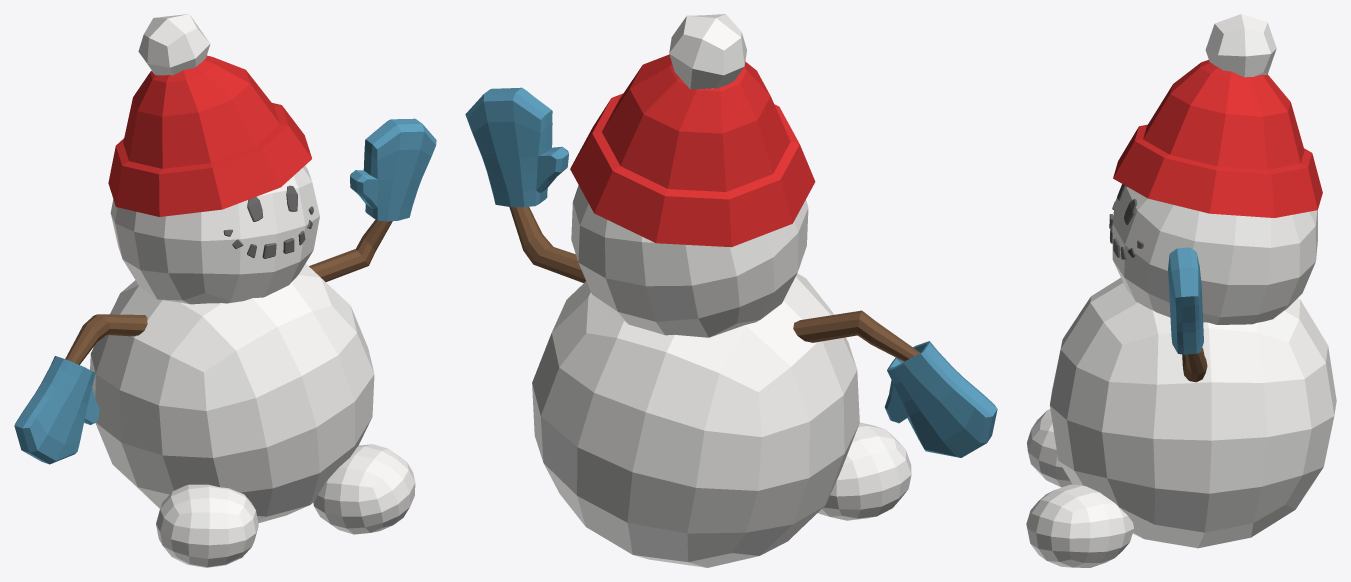
The model's file is Isl_16_Snowman_1.fbx.
3 views of the same model, side by side, from view 1: azimuth 30°, elevation 25°; view 2: azimuth 150°, elevation 25°; view 3: azimuth 270°, elevation 25° (orthographic). The views are drawn at different scales.
Visible parts, largest first — view 1: Isl_16_Snowman_1; view 2: Isl_16_Snowman_1; view 3: Isl_16_Snowman_1.
Boxes of the visible parts, bbox=[...] form: Isl_16_Snowman_1: bbox=[14, 14, 436, 567]; Isl_16_Snowman_1: bbox=[465, 14, 997, 567]; Isl_16_Snowman_1: bbox=[1026, 14, 1336, 567].
Bounding box in the file's own units: 265 × 159 × 281.
1 material, 1 textured.
